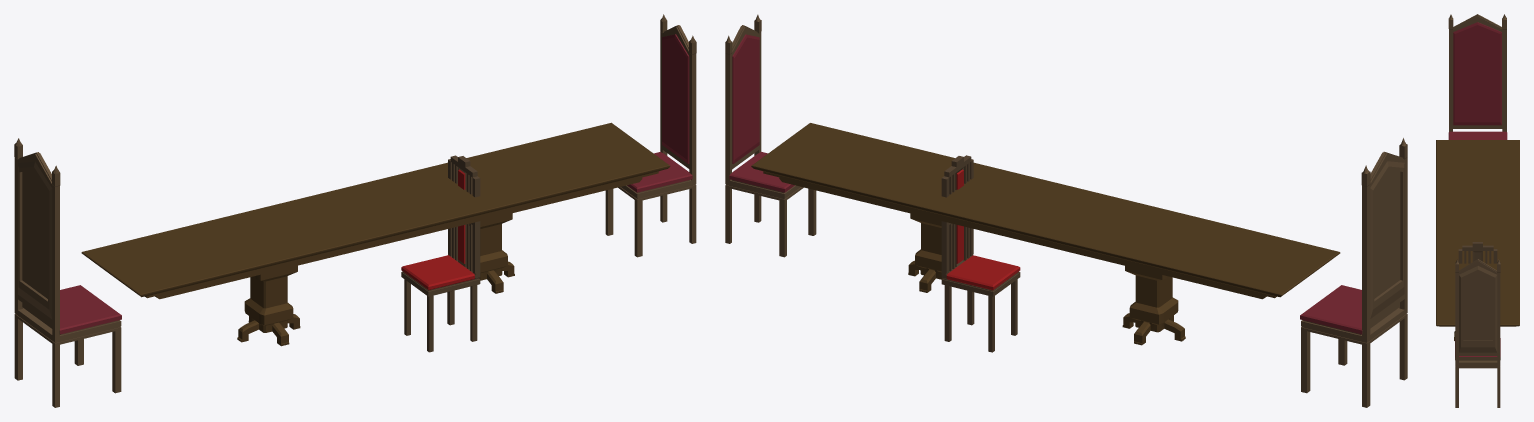
File: dinner table.fbx
3 views of the same model, side by side, from view 1: azimuth 30°, elevation 25°; view 2: azimuth 150°, elevation 25°; view 3: azimuth 270°, elevation 25° (orthographic). The views are drawn at different scales.
Visible parts, largest first — view 1: tabl, tabl.001, king, queen, simple chair; view 2: tabl, tabl.001, king, queen, simple chair; view 3: tabl, king, queen, tabl.001, simple chair.
Boxes of the visible parts, x1,y1,x2,y2 form: tabl: [81, 176, 454, 346]; tabl.001: [302, 122, 670, 293]; king: [14, 138, 121, 407]; queen: [605, 14, 696, 257]; simple chair: [401, 155, 480, 352]; tabl: [966, 175, 1340, 345]; tabl.001: [751, 123, 1122, 292]; king: [1300, 138, 1407, 407]; queen: [725, 14, 816, 257]; simple chair: [941, 155, 1020, 352]; tabl: [1436, 140, 1519, 249]; king: [1448, 14, 1507, 139]; queen: [1455, 259, 1500, 407]; tabl.001: [1436, 214, 1519, 340]; simple chair: [1458, 242, 1497, 263].
Size of the model in its own units: 2051 by 860 by 321.
